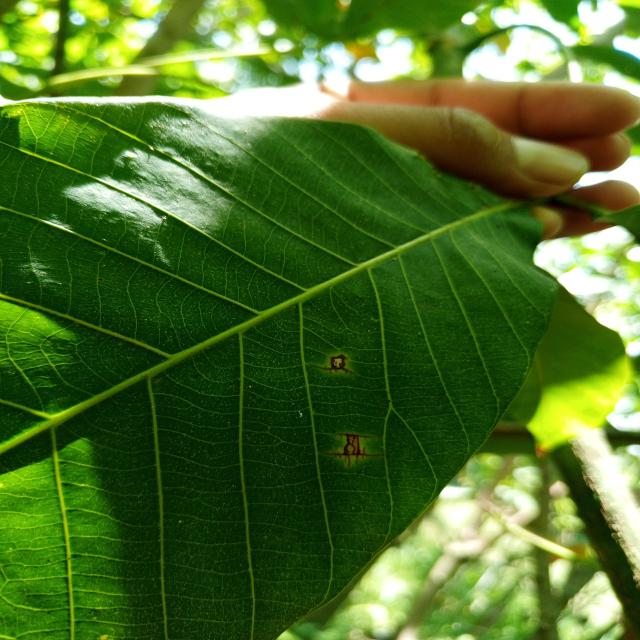Corynespora: (322, 431, 384, 466), (307, 354, 355, 374)
